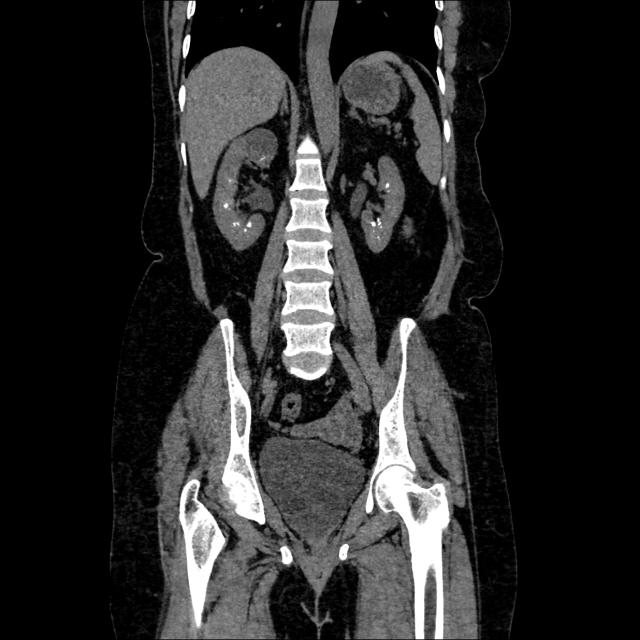kidney: (214, 124, 283, 257), (352, 154, 412, 252)
stone: (380, 172, 394, 196), (371, 213, 384, 235), (240, 215, 254, 235), (220, 192, 233, 212)
